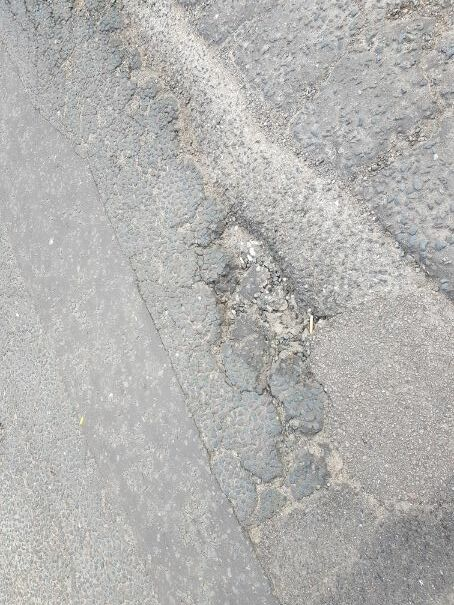pothole: (181, 193, 337, 366)
